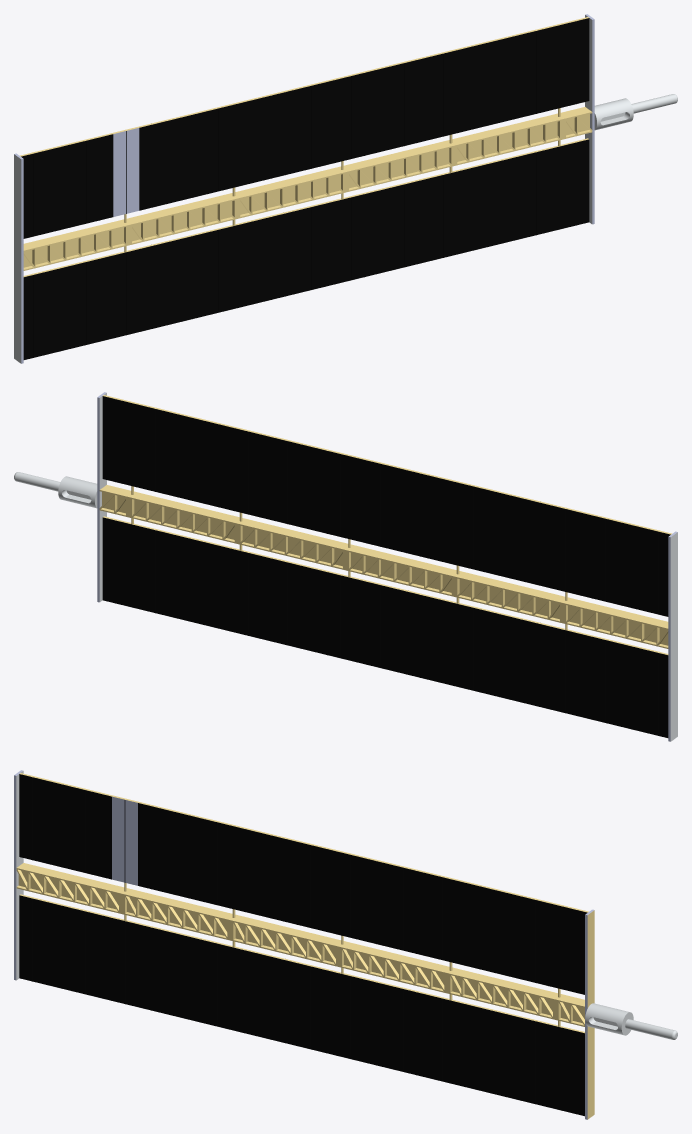
File: solarpanels_6.FBX
3 views of the same model, one above another, from view 1: azimuth 30°, elevation 25°; view 2: azimuth 150°, elevation 25°; view 3: azimuth 330°, elevation 25° (orthographic).
Visible parts, largest first — view 1: pieza N111 ISS-5-solid1; view 2: pieza N111 ISS-5-solid1; view 3: pieza N111 ISS-5-solid1.
Part boxes in pixels (x1=…): pieza N111 ISS-5-solid1: x1=14, y1=14, x2=677, y2=363; pieza N111 ISS-5-solid1: x1=14, y1=392, x2=677, y2=741; pieza N111 ISS-5-solid1: x1=14, y1=770, x2=677, y2=1119.
Size of the model in its own units: 2700 by 801 by 85.
